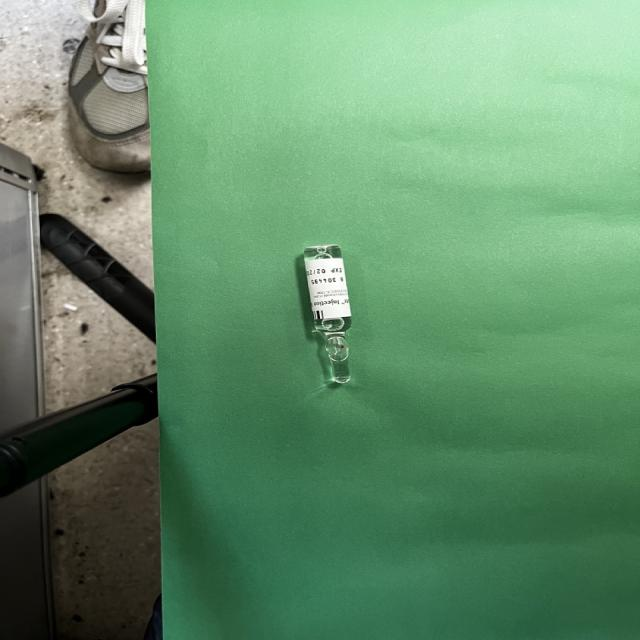Ampoules: (303, 244, 351, 384)
